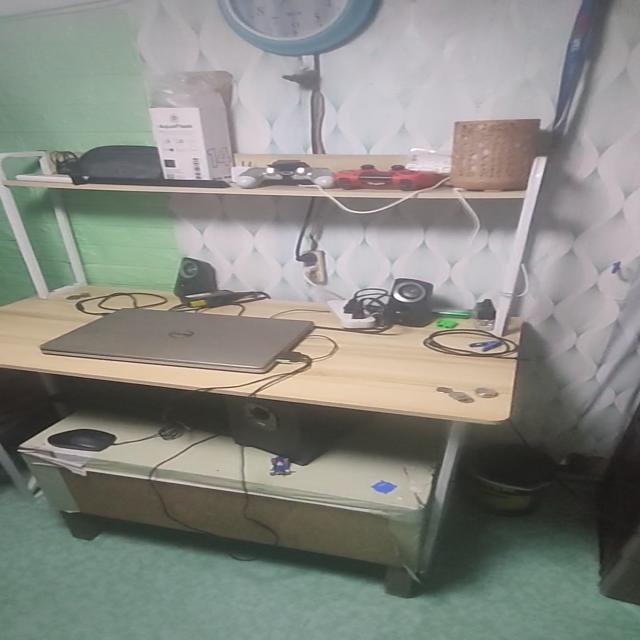table: (0, 289, 554, 601)
